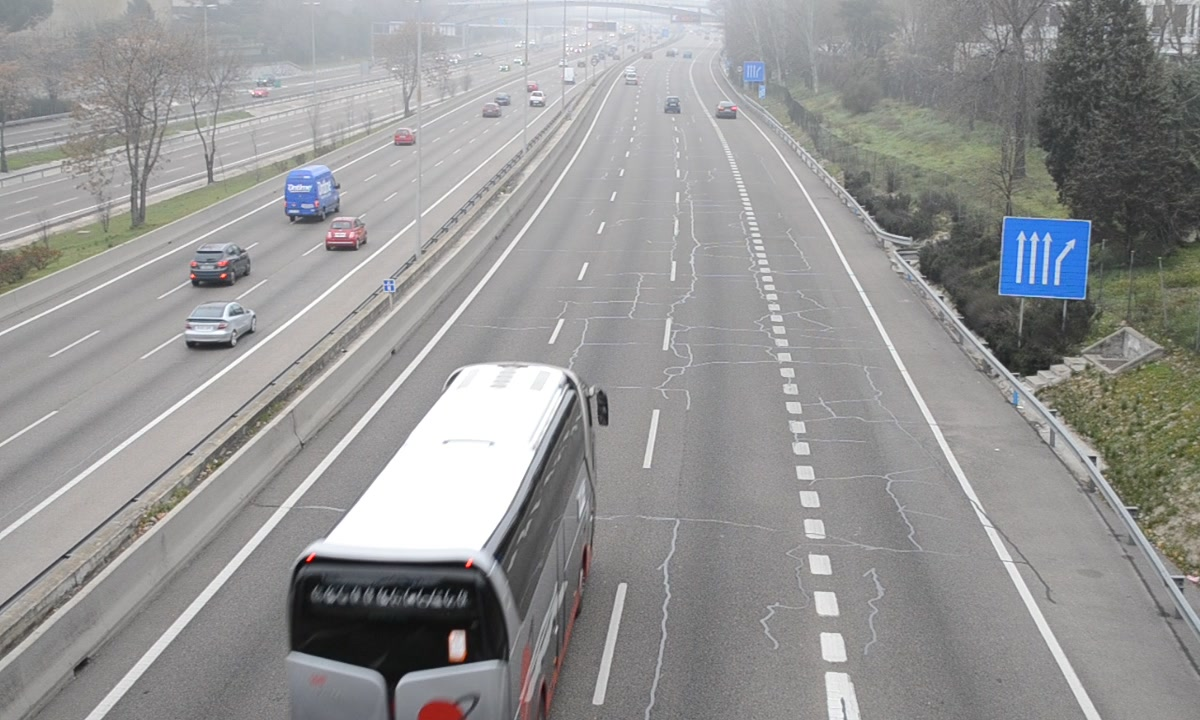bus: (282, 362, 598, 720)
car: (715, 101, 738, 121), (663, 95, 683, 116)
